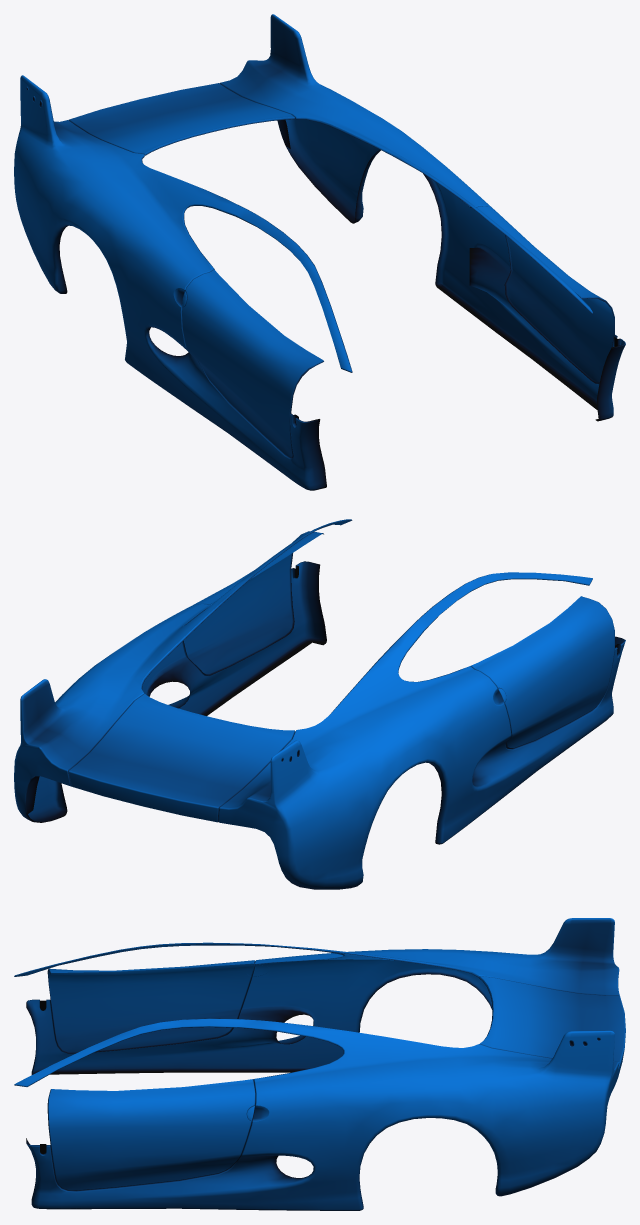
File: MC_XJ220s_Chassis_Duco.fbx
3 views of the same model, one above another, from view 1: azimuth 30°, elevation 25°; view 2: azimuth 150°, elevation 25°; view 3: azimuth 270°, elevation 25° (orthographic). The views are drawn at different scales.
Parts seen in each view (by area): view 1: MC_XJ220s_Chassis_Duco; view 2: MC_XJ220s_Chassis_Duco; view 3: MC_XJ220s_Chassis_Duco.
Boxes of the visible parts, left/top/right/bottom form: MC_XJ220s_Chassis_Duco: left=14, top=14, right=625, bottom=490; MC_XJ220s_Chassis_Duco: left=14, top=519, right=625, bottom=889; MC_XJ220s_Chassis_Duco: left=14, top=918, right=625, bottom=1210.
Size of the model in its own units: 203 by 106 by 355.
